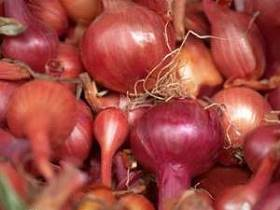onion: (78, 0, 177, 98), (5, 78, 78, 182), (198, 0, 269, 81), (213, 85, 271, 158), (238, 121, 279, 209)
